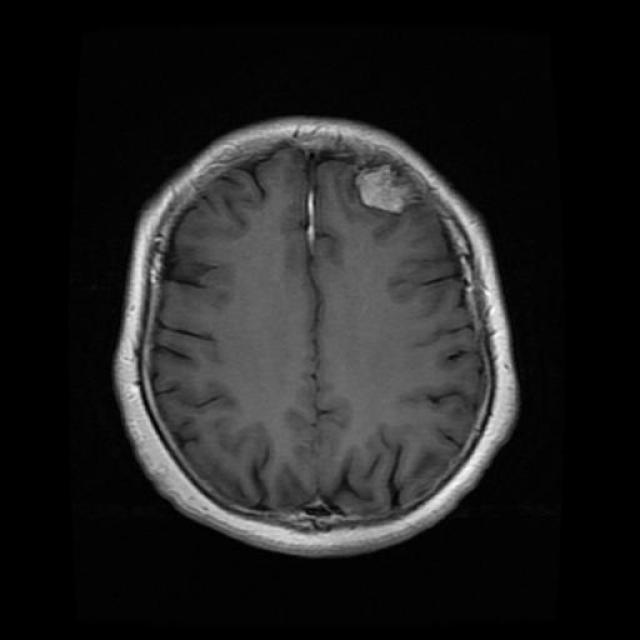Brain-Tumor: (346, 149, 434, 227)
